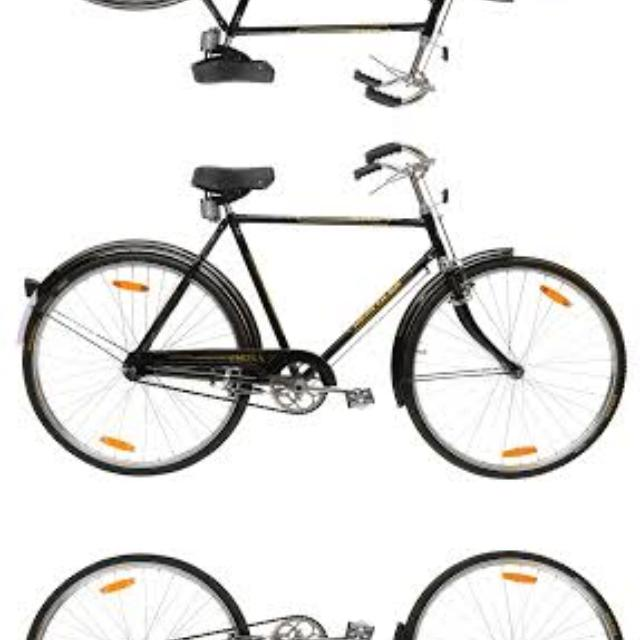obstacle: (4, 128, 640, 476), (4, 0, 640, 120), (4, 552, 640, 640)
